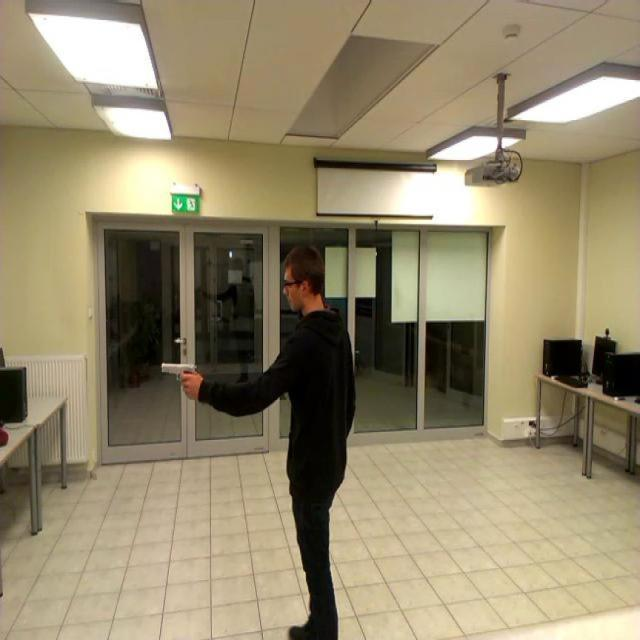pistol: (163, 361, 198, 392)
